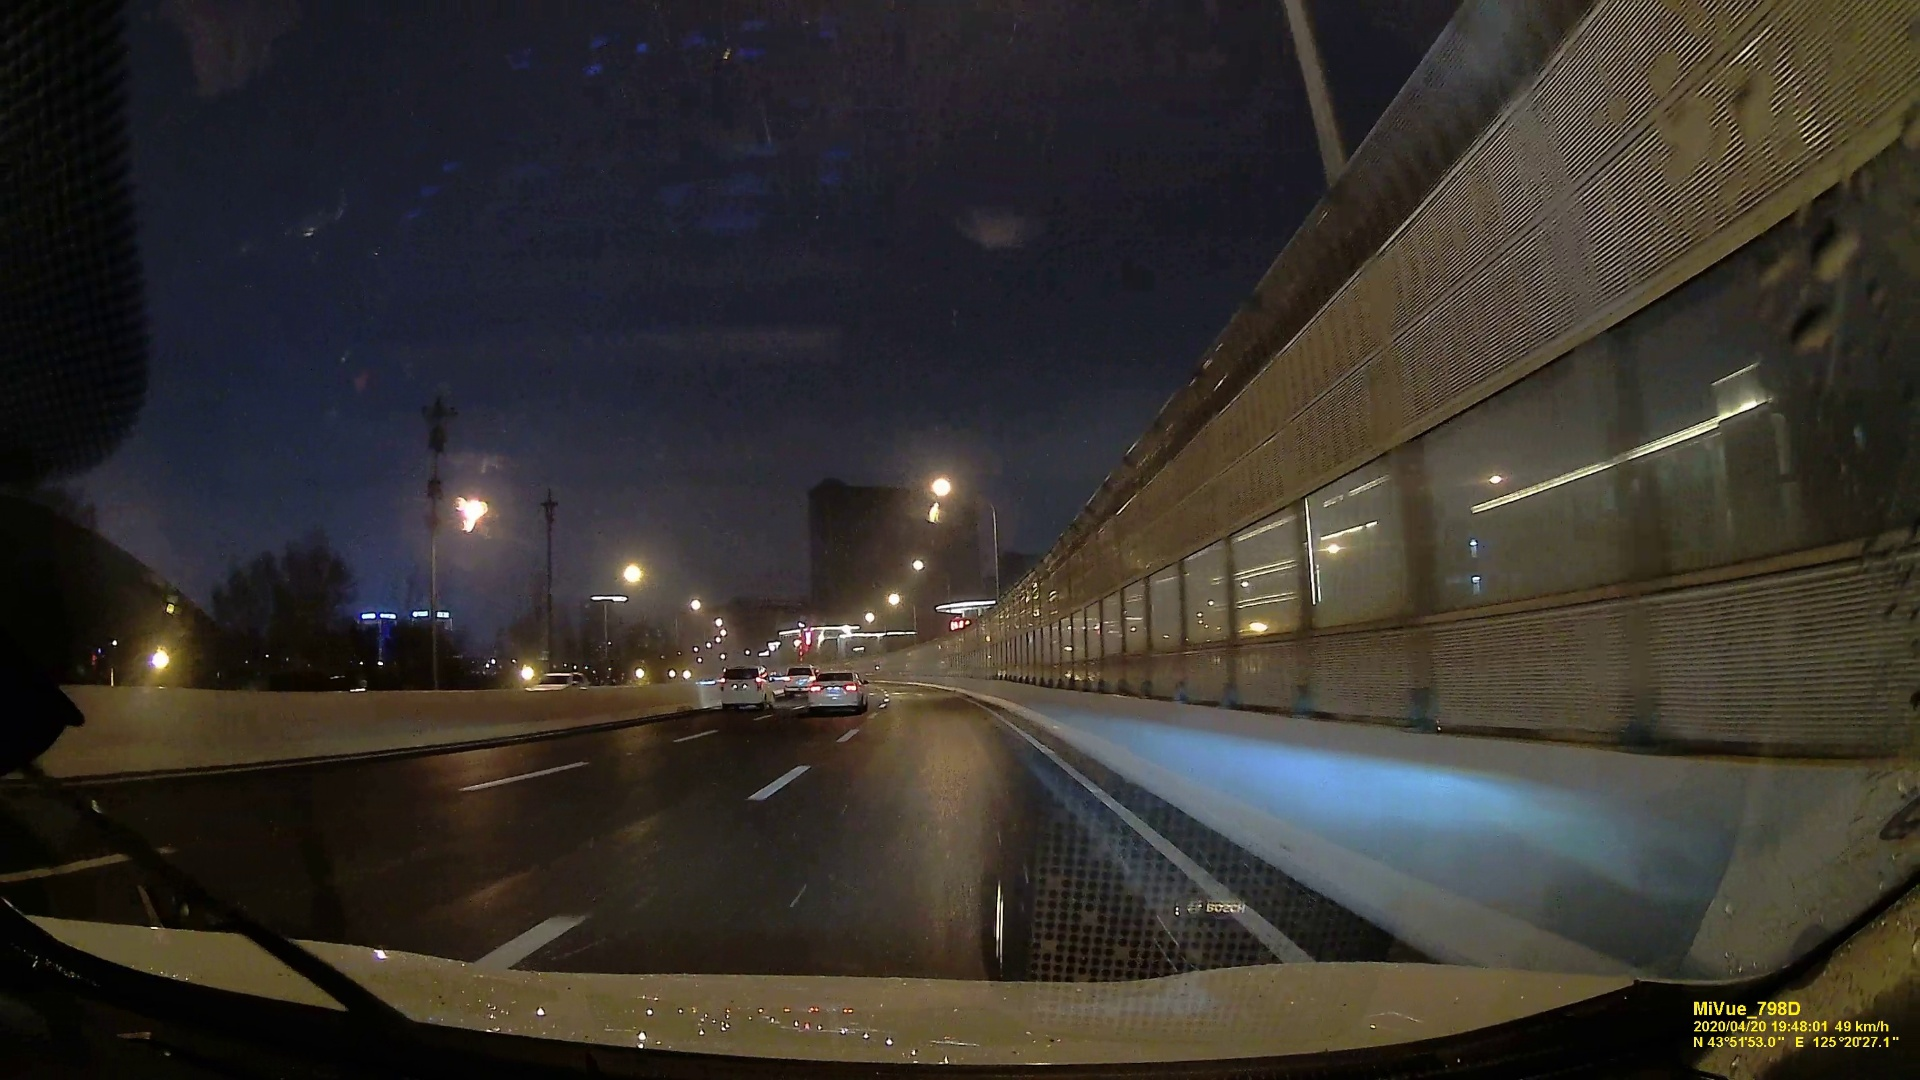minibus: (719, 667, 773, 708)
vehicle: (806, 671, 865, 711), (785, 665, 816, 698)
